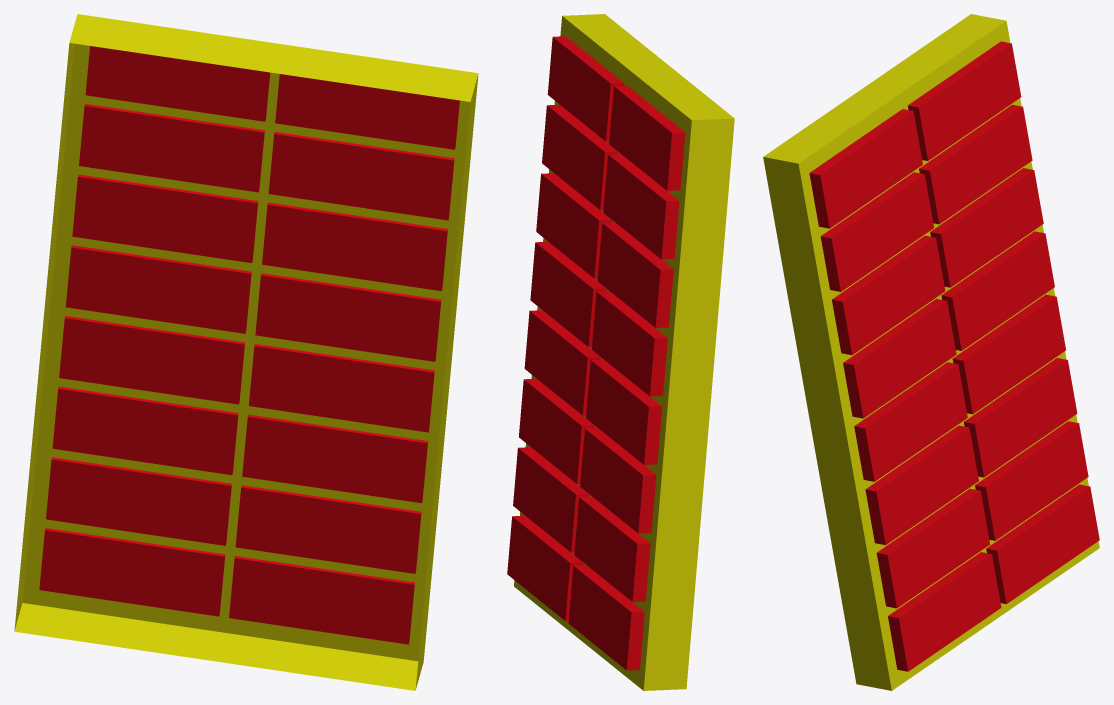
File: FailurePanel.fbx
3 renders of one model, left to right at view 1: azimuth 30°, elevation 25°; view 2: azimuth 150°, elevation 25°; view 3: azimuth 270°, elevation 25°, orthographic. The views are drawn at different scales.
Parts seen in each view (by area): view 1: Cube.014; view 2: Cube.014; view 3: Cube.014.
Part boxes in pixels (x1,y1,x2,y2): Cube.014: (14,14,478,690); Cube.014: (507,14,734,690); Cube.014: (763,14,1099,690).
Size of the model in its own units: 5.71 by 11.95 by 6.49.
